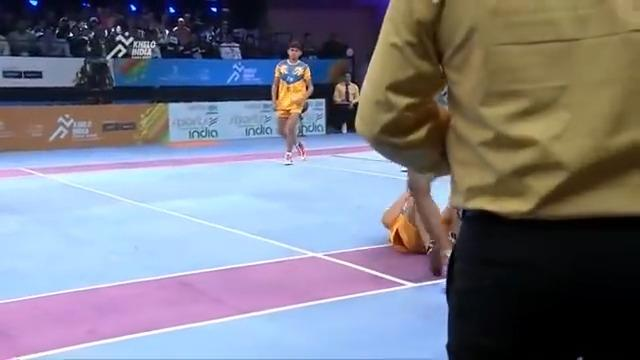Player: (268, 38, 315, 166)
Raider: (384, 173, 443, 257)
referee: (353, 0, 638, 358), (336, 70, 363, 134)
